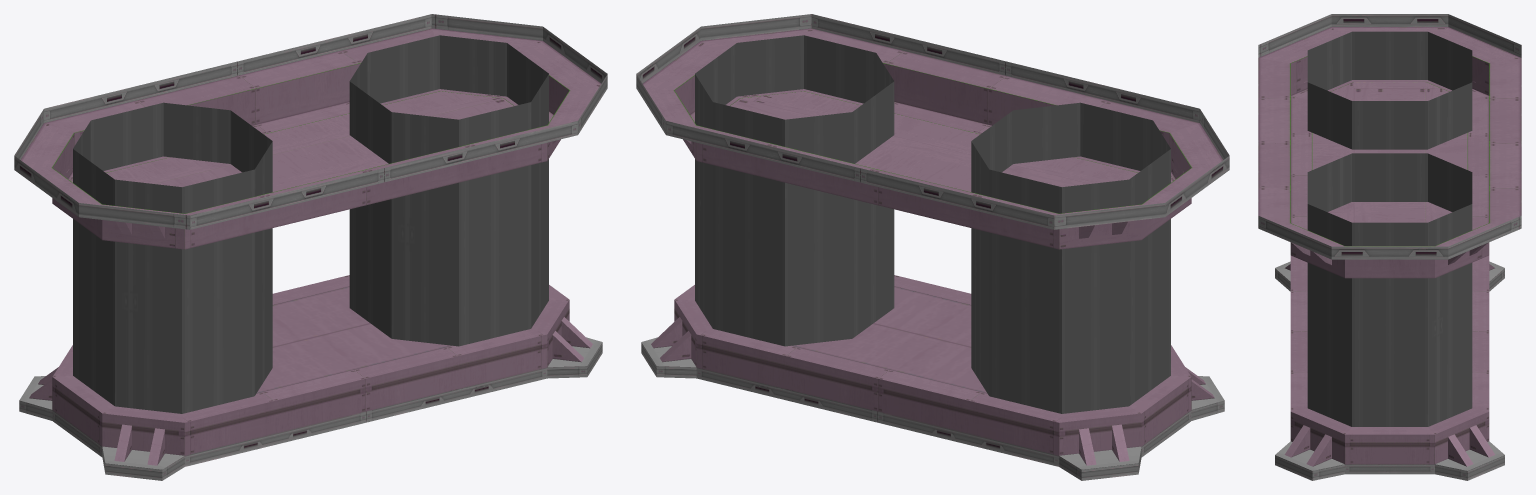
The model's file is support_standard.fbx.
3 renders of one model, left to right at view 1: azimuth 30°, elevation 25°; view 2: azimuth 150°, elevation 25°; view 3: azimuth 270°, elevation 25°, orthographic. The views are drawn at different scales.
Parts seen in each view (by area): view 1: support_pylon, support_standard_1, support_ground; view 2: support_pylon, support_standard_1, support_ground; view 3: support_pylon, support_standard_1, support_ground.
Boxes of the visible parts, bbox=[...] form: support_pylon: bbox=[73, 35, 548, 413]; support_standard_1: bbox=[14, 14, 607, 249]; support_ground: bbox=[19, 275, 602, 480]; support_pylon: bbox=[695, 35, 1170, 413]; support_standard_1: bbox=[636, 14, 1229, 249]; support_ground: bbox=[641, 275, 1224, 480]; support_pylon: bbox=[1307, 31, 1472, 426]; support_standard_1: bbox=[1258, 14, 1521, 278]; support_ground: bbox=[1275, 255, 1504, 480].
Bounding box in the file's own units: 2063 × 1011 × 986.
